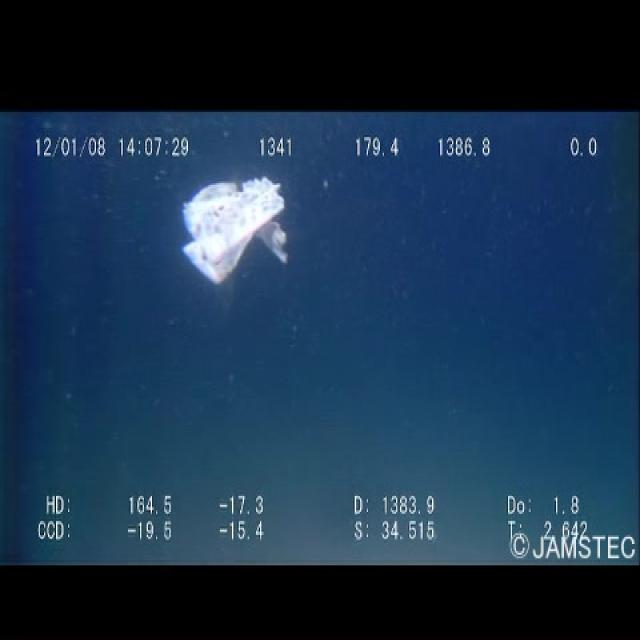plastic: (175, 169, 296, 284)
